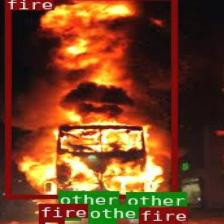fire: (5, 0, 177, 198), (38, 217, 63, 224)
